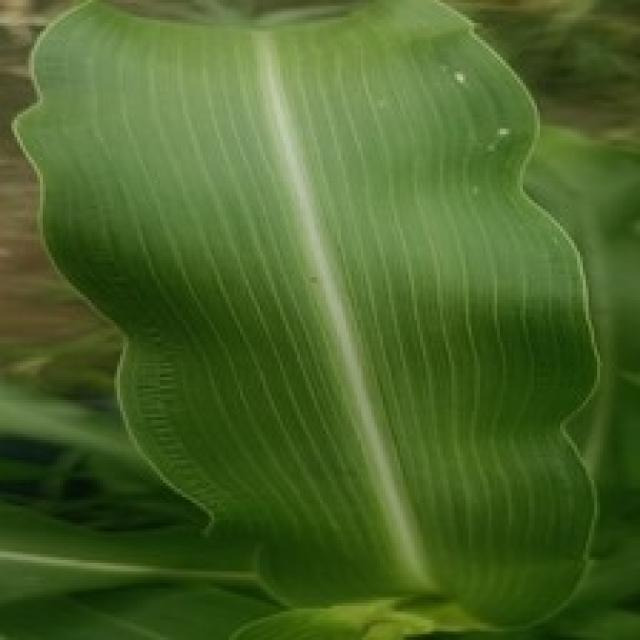Corn: (6, 0, 606, 637)
